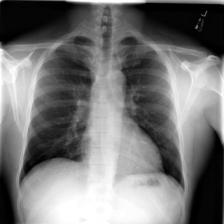normal: (14, 30, 189, 198)
